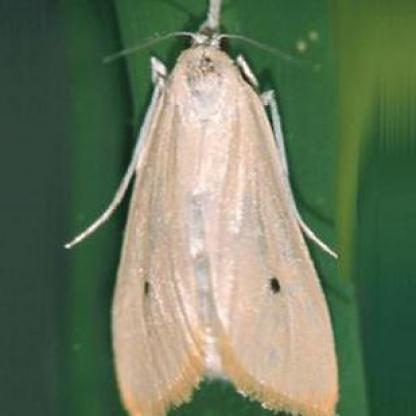stem-borer: (60, 0, 342, 416)
